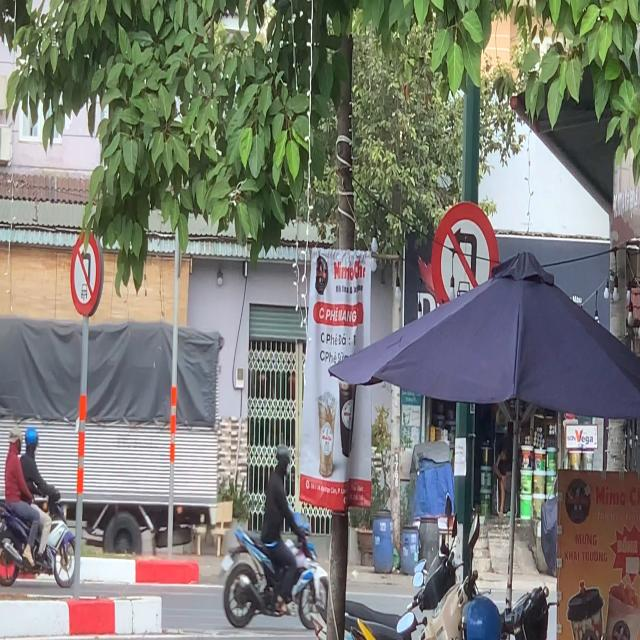Cam re trai: (70, 226, 103, 316)
